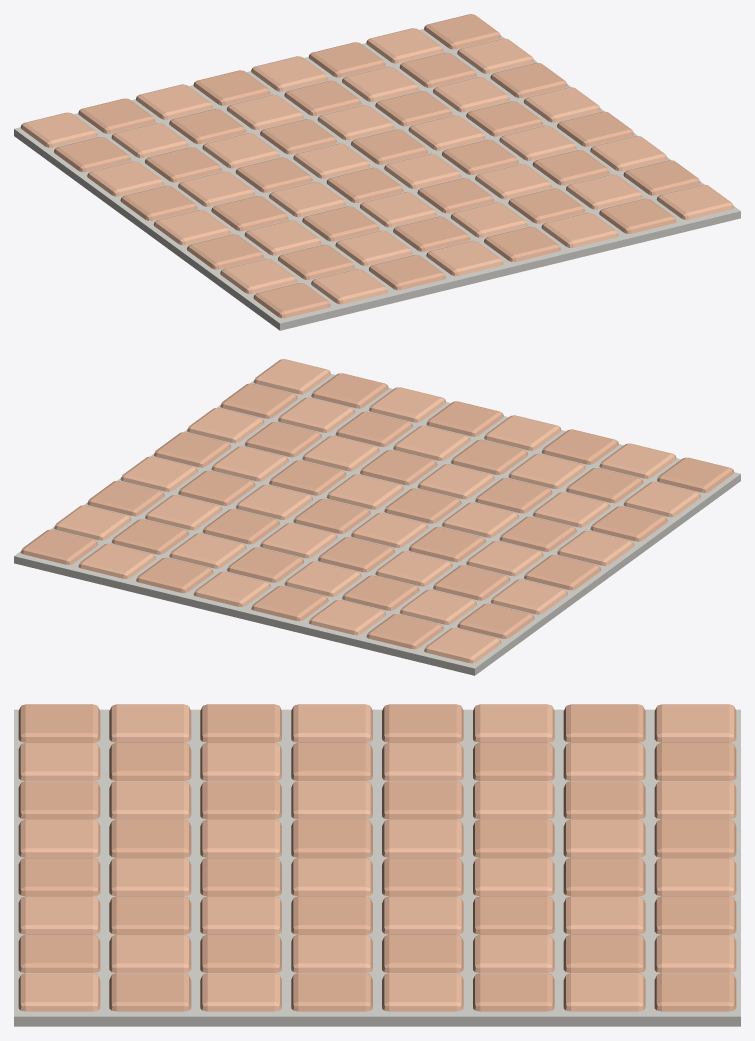
File: floor_terracotta.fbx
The picture shows the model from 3 angles, top to bottom: view 1: azimuth 30°, elevation 25°; view 2: azimuth 150°, elevation 25°; view 3: azimuth 270°, elevation 25°; orthographic projection. The views are drawn at different scales.
Parts seen in each view (by area): view 1: Floor; view 2: Floor; view 3: Floor.
Part boxes in pixels (x1,y1,x2,y2): Floor: [14, 14, 740, 330]; Floor: [14, 359, 740, 675]; Floor: [14, 704, 740, 1026].
Size of the model in its own units: 4 by 0.12 by 4.
